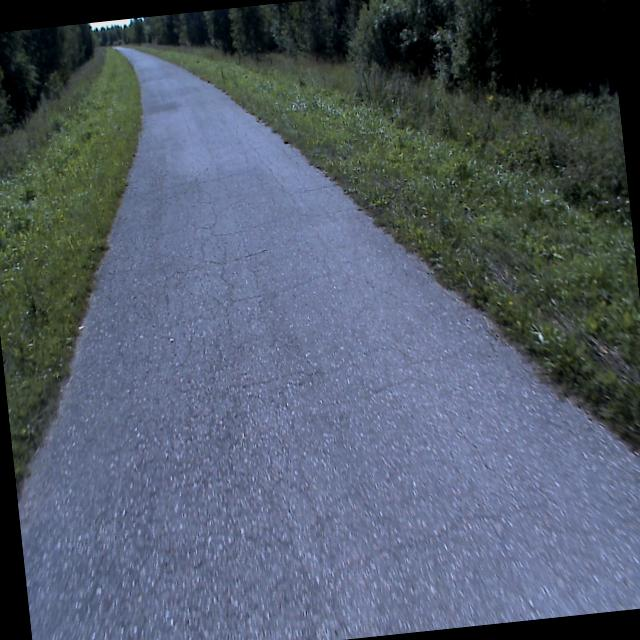road: (18, 46, 640, 640)
